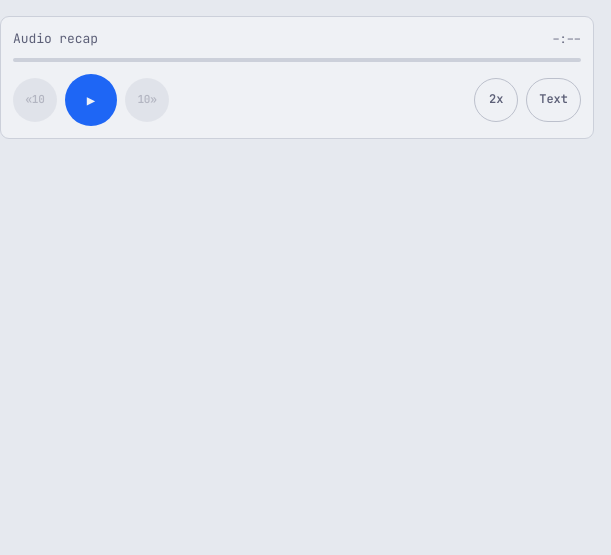
Test case: AudioBite › shows the narration transcript on request
Click the button "Text".
click(554, 100)  # box [526,78,581,122]
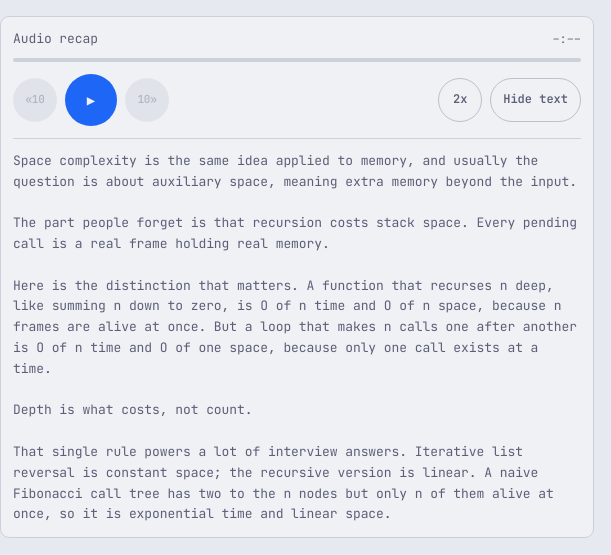
Now the button "Hide text" is shown, box [490,78,581,122]
